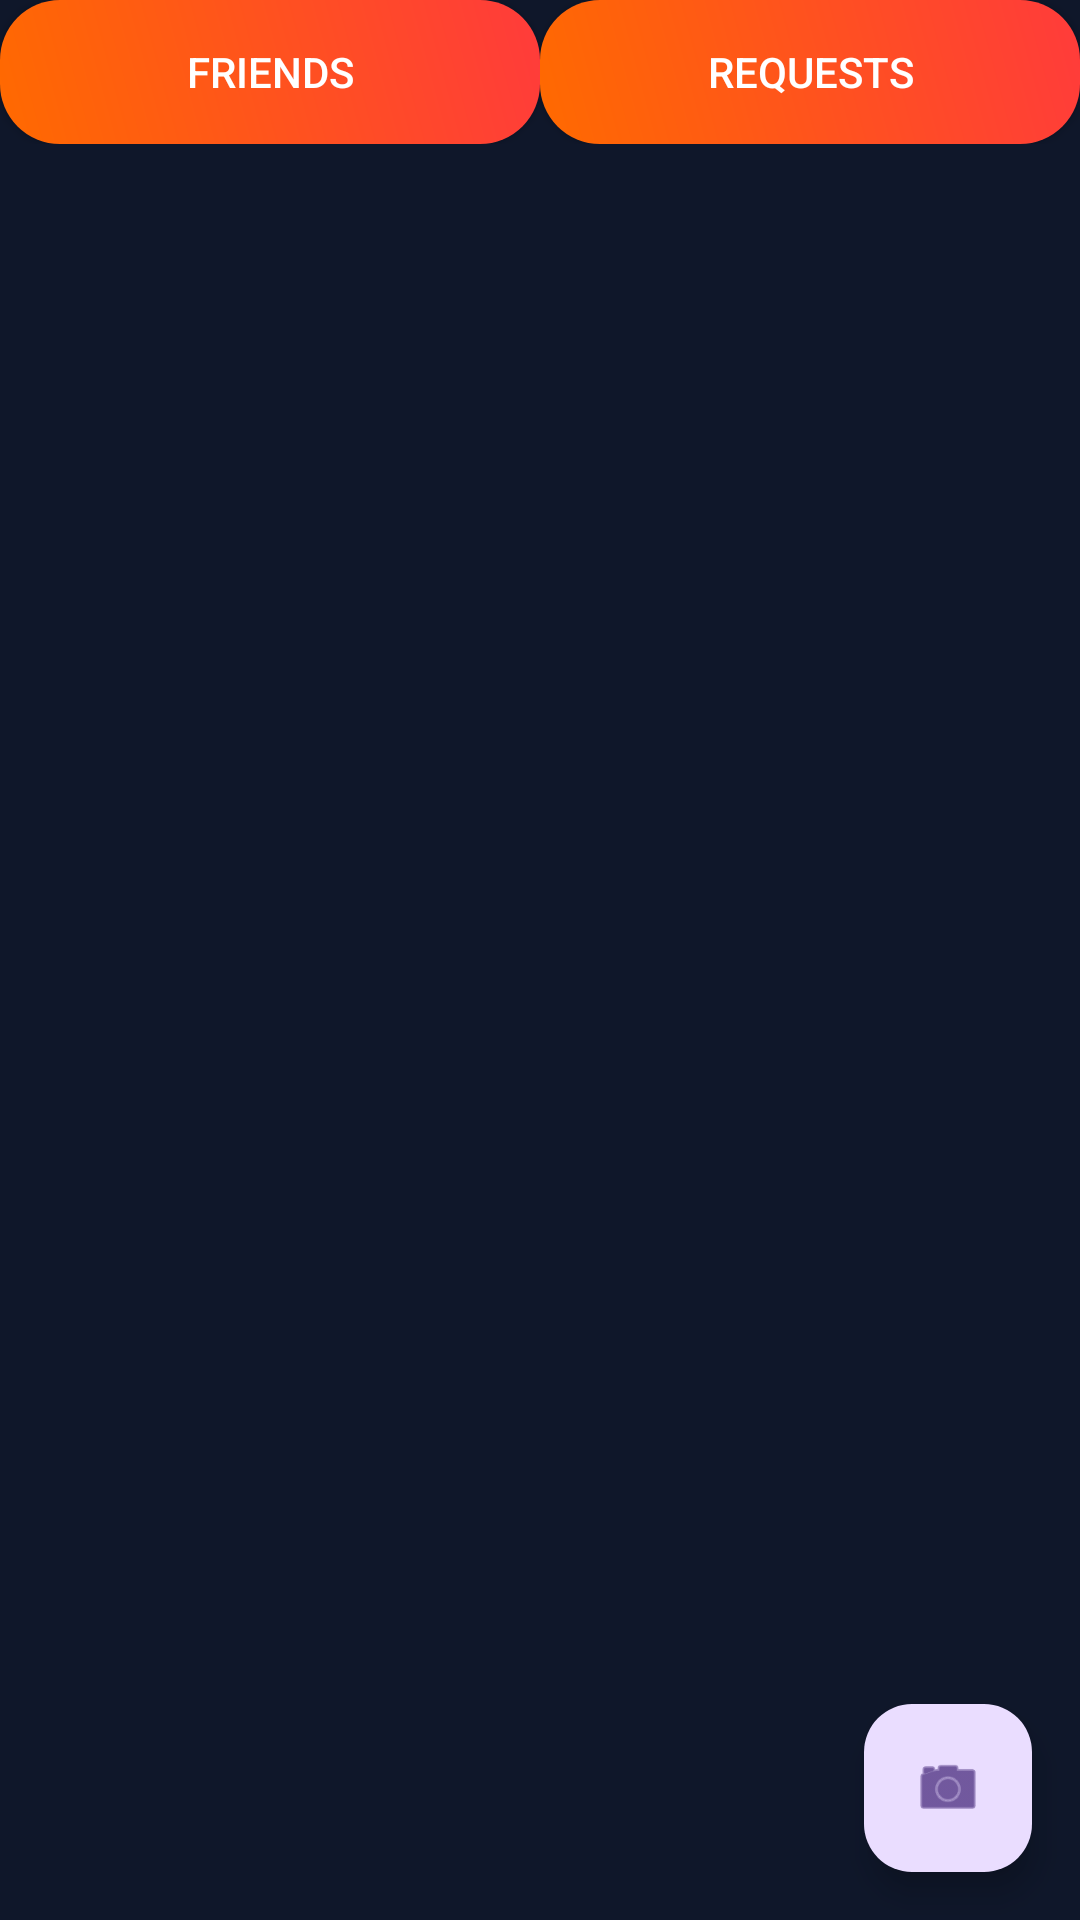

Locate icon controls on the screen. Image size 1080w x 1920h, boxes as Rect(x1, y1, x2, y2).
camera: Rect(864, 1704, 1032, 1872)
